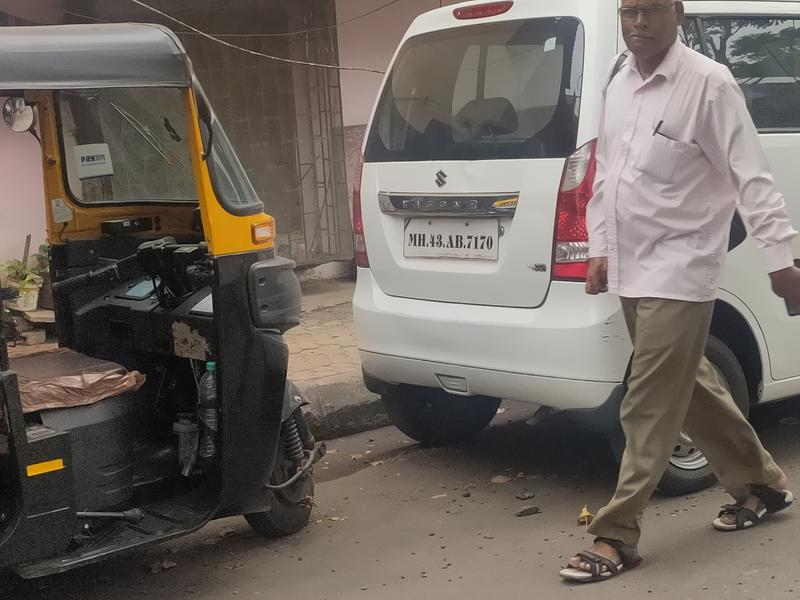license_plate: (398, 204, 507, 272)
